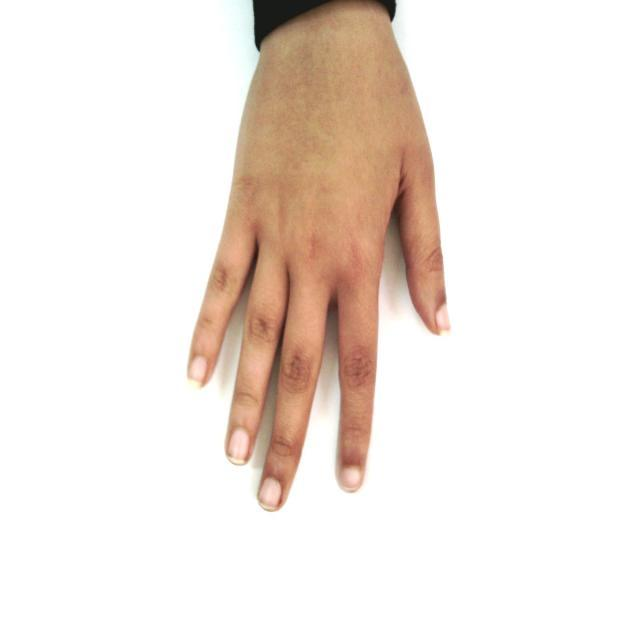Fingernail: (229, 429, 249, 462), (260, 478, 281, 508), (190, 357, 206, 382), (342, 467, 360, 489), (437, 305, 450, 333)
